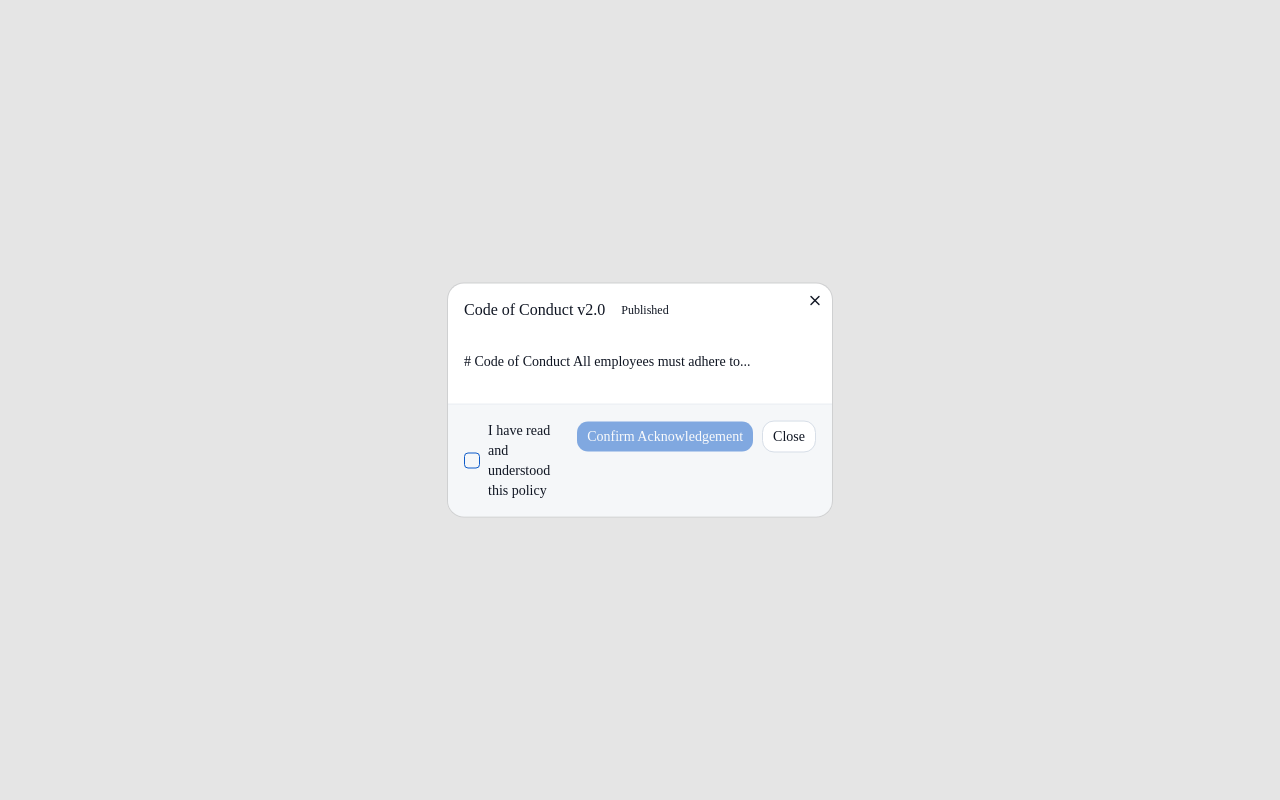
Test: Policy Regression Tests › FE-DOC-002: Policy Acknowledgement Modal › shows checkbox gate—confirm disabled until checked
The width and height of the screenshot is (1280, 800).
Expected: the button "Confirm Acknowledgement" is disabled, [576,420,754,452]
Click the checkbox named "i have read and understood" at (472, 460), box [464,452,480,468]
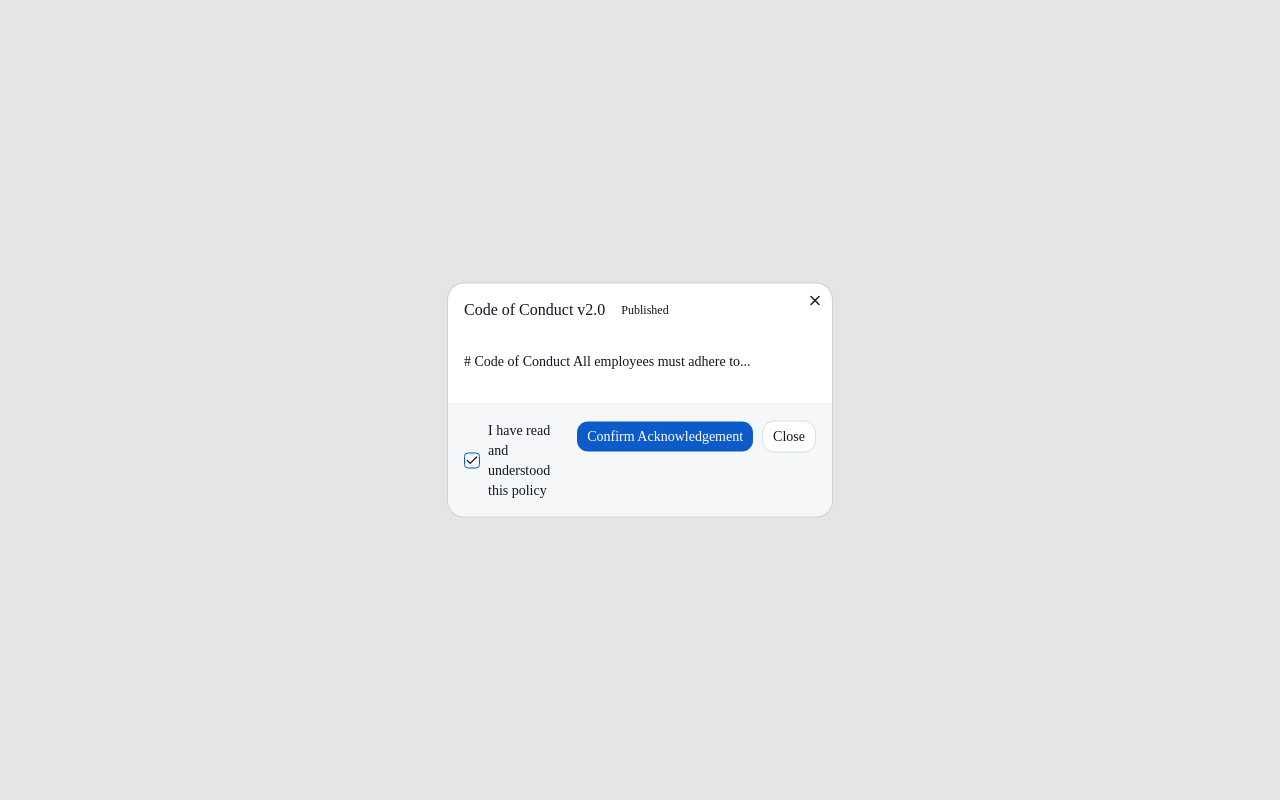
Now the button "Confirm Acknowledgement" is enabled, box [576,420,754,452]
